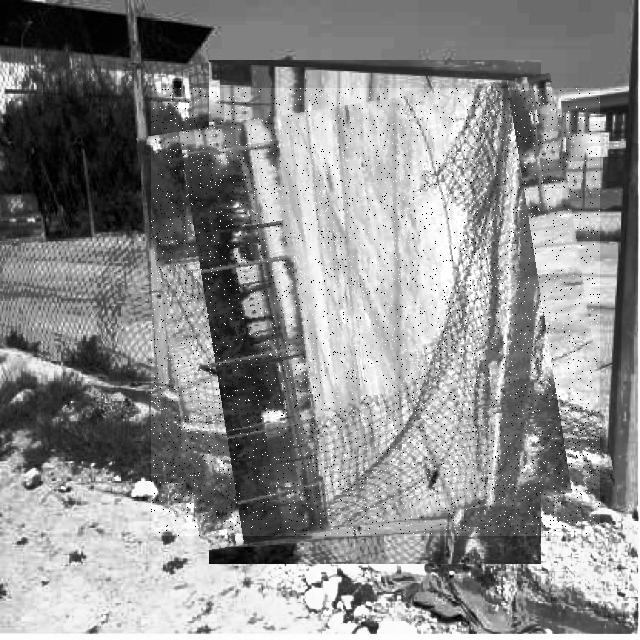anomaly-fence: (151, 88, 600, 536)
